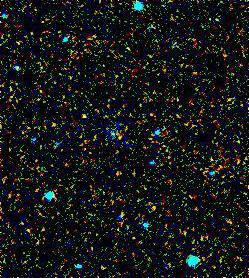star: (68, 103, 98, 133)
